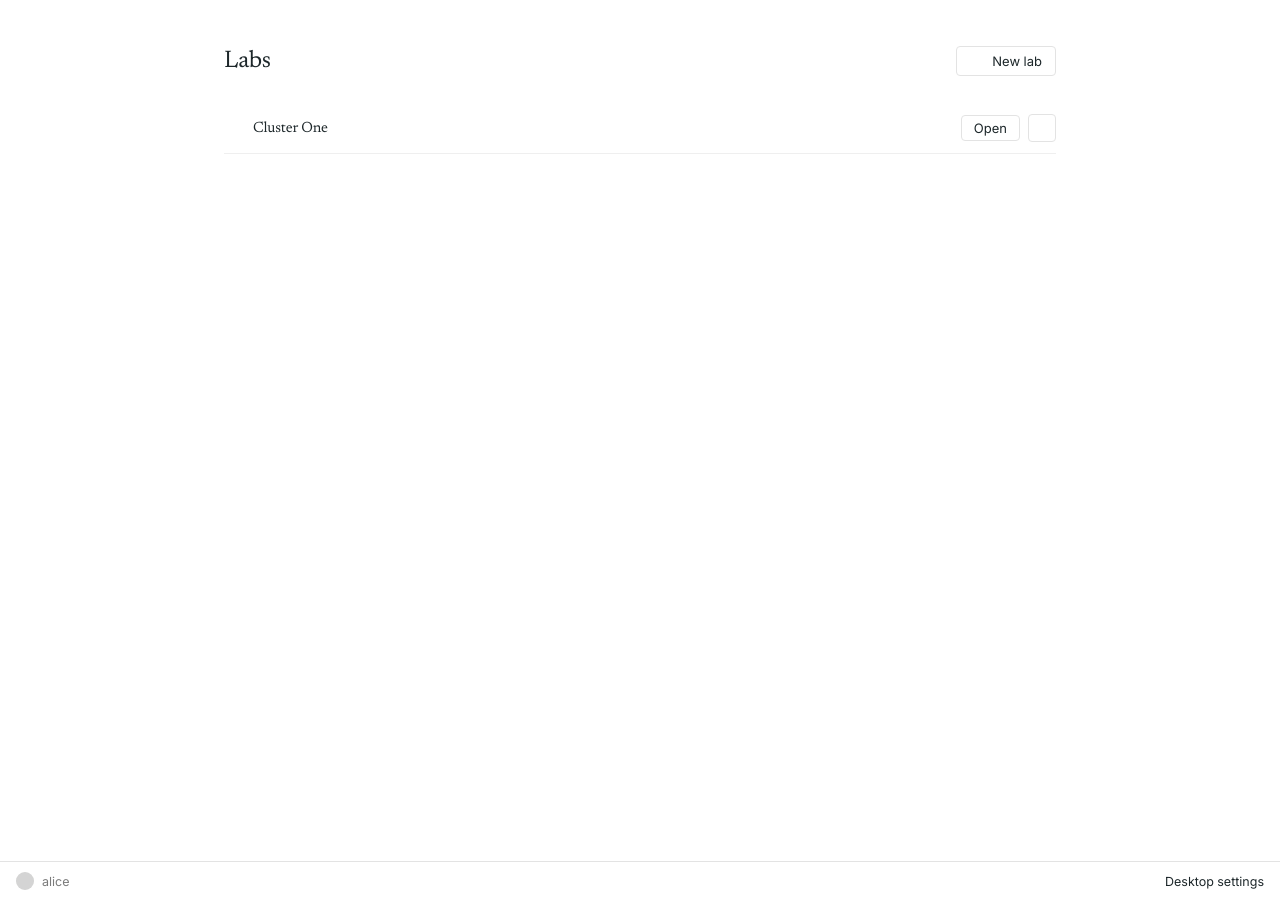
App connect phases › host key: scans, shows the fingerprint, accepts it and reconnects
Later steps or results of the test are not shown.
Click the button "Open" at (990, 128), box left=961, top=115, right=1020, bottom=141
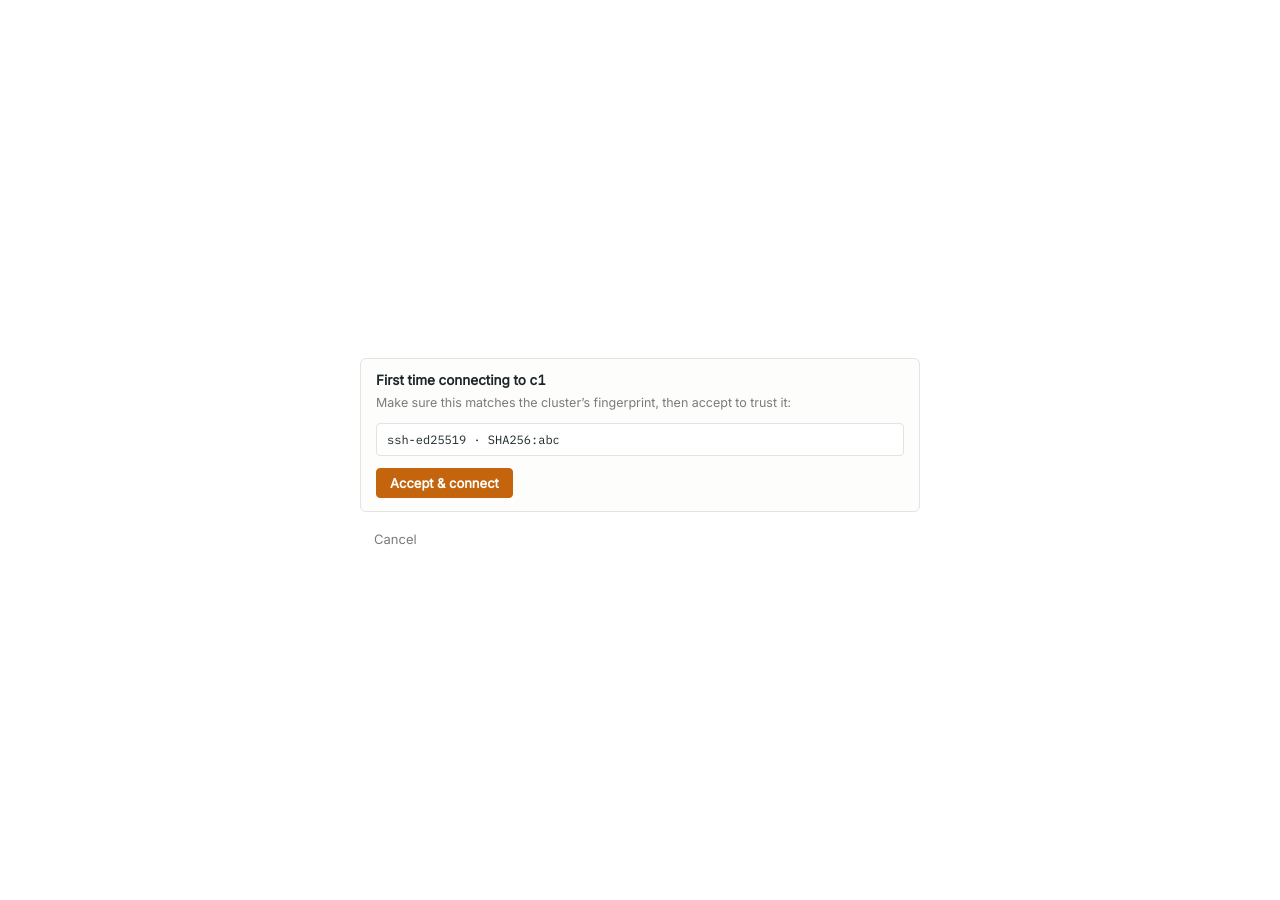
Now the text "First time connecting to c1" is shown, box left=376, top=372, right=546, bottom=388
Now the text "ssh-ed25519 · SHA256:abc" is shown, box left=376, top=423, right=904, bottom=456
